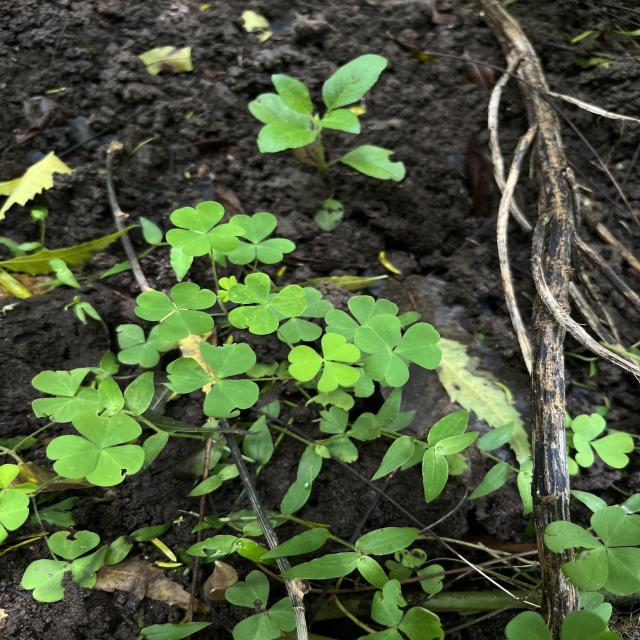Oxalis corniculata: (542, 504, 640, 597), (160, 338, 260, 419), (45, 408, 146, 488), (352, 312, 443, 388), (226, 272, 308, 336), (134, 280, 218, 342), (163, 199, 246, 256), (286, 332, 362, 394), (228, 211, 298, 266), (570, 412, 636, 469)
